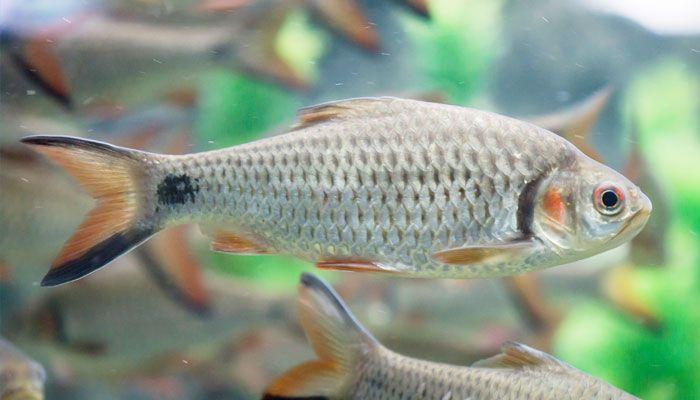Black Spotted Barb: (19, 96, 658, 288)
